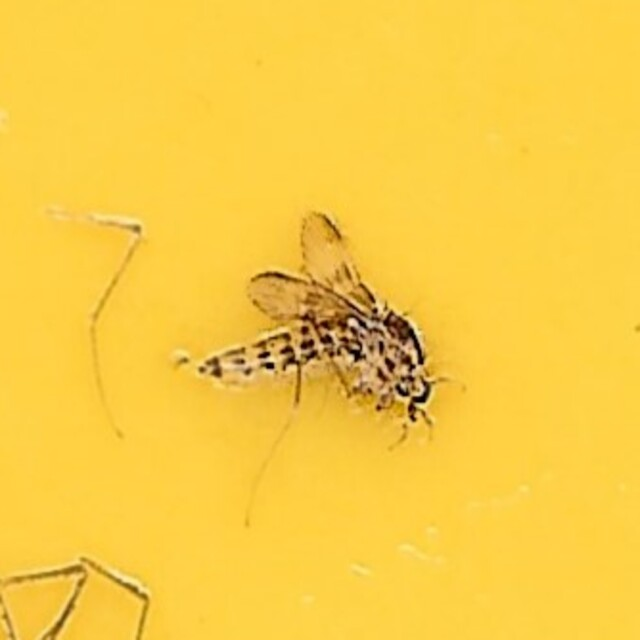Nematocera: (192, 212, 448, 428)
